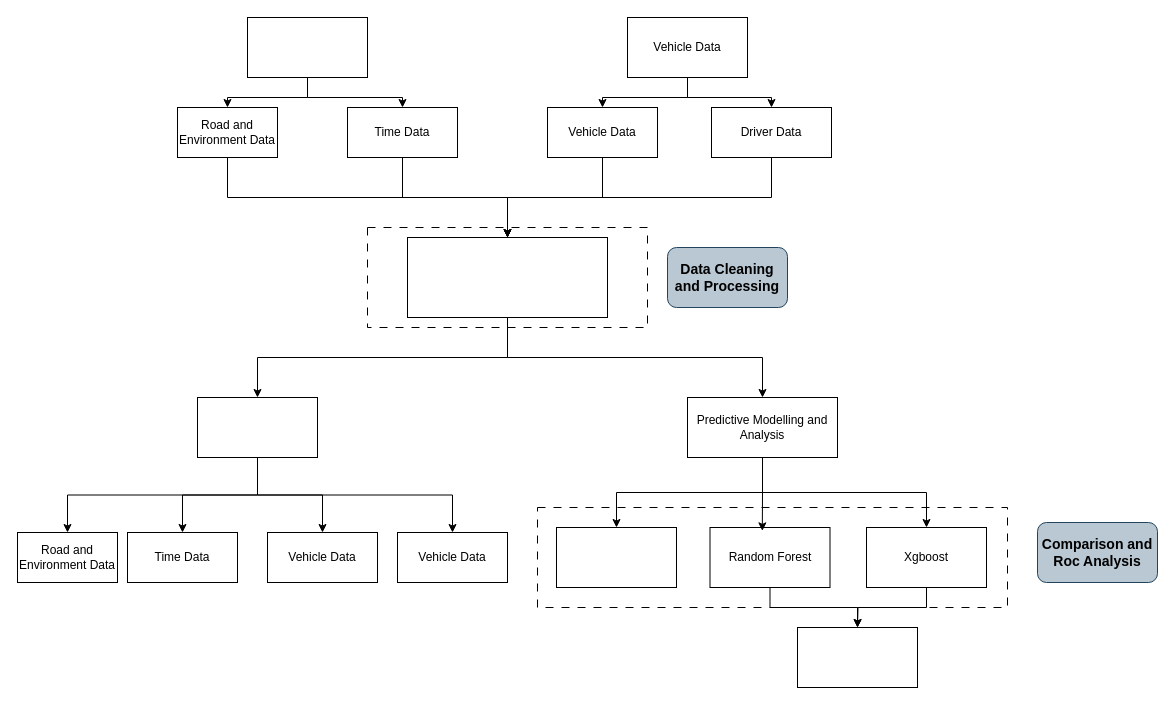
Image size: 1175x705. Some labels were removed from this diagram. Here are the shapes that lost their labels. From the top down, the centre of each, then its label:
At pixel 307 47: "Accident Data".
At pixel 507 277: "Merge by Accident Index".
At pixel 257 427: "Exploratory Data Anaysis".
At pixel 616 557: "Logistic Regression".
At pixel 857 657: "SHAP Analysis".
